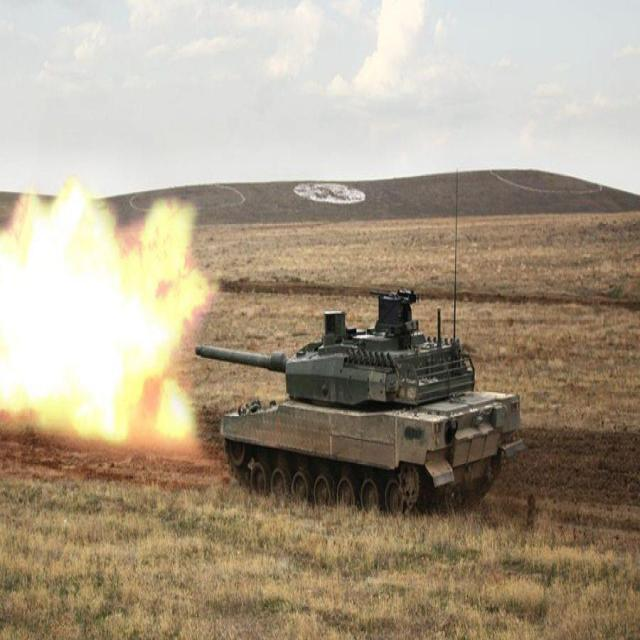Tanks: (142, 196, 544, 553)
